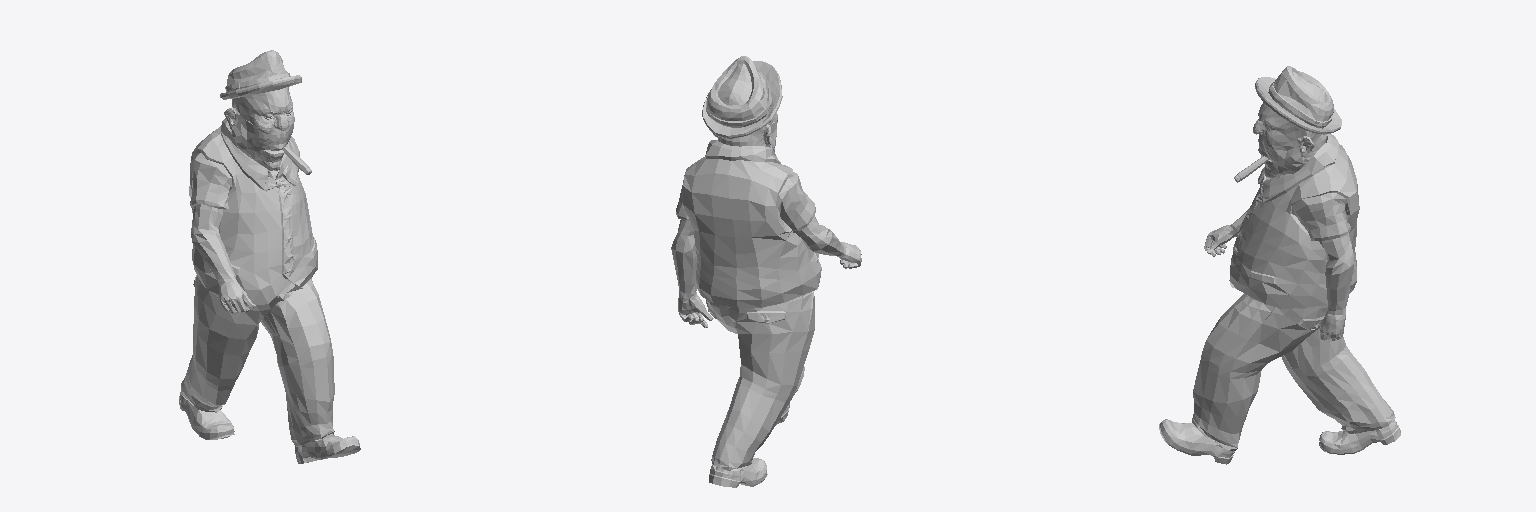
The model's file is walk0007.obj.
3 renders of one model, left to right at view 1: azimuth 30°, elevation 25°; view 2: azimuth 150°, elevation 25°; view 3: azimuth 270°, elevation 25°, orthographic.
Visible parts, largest first — view 1: mixamorig:Jacket_Geo, mixamorig:Pants_Geo, mixamorig:Head_Geo, mixamorig:Arms_Geo, mixamorig:Shoes_Geo, mixamorig:Hat_Geo; view 2: mixamorig:Jacket_Geo, mixamorig:Pants_Geo, mixamorig:Hat_Geo, mixamorig:Arms_Geo, mixamorig:Shoes_Geo, mixamorig:Head_Geo; view 3: mixamorig:Pants_Geo, mixamorig:Jacket_Geo, mixamorig:Hat_Geo, mixamorig:Arms_Geo, mixamorig:Shoes_Geo, mixamorig:Head_Geo.
Boxes of the visible parts, x1=… form: mixamorig:Jacket_Geo: x1=189, y1=118, x2=317, y2=304; mixamorig:Pants_Geo: x1=180, y1=275, x2=334, y2=445; mixamorig:Head_Geo: x1=224, y1=87, x2=294, y2=179; mixamorig:Arms_Geo: x1=191, y1=204, x2=255, y2=313; mixamorig:Shoes_Geo: x1=179, y1=394, x2=360, y2=463; mixamorig:Hat_Geo: x1=220, y1=50, x2=301, y2=99; mixamorig:Jacket_Geo: x1=676, y1=140, x2=821, y2=307; mixamorig:Pants_Geo: x1=706, y1=291, x2=814, y2=470; mixamorig:Hat_Geo: x1=702, y1=56, x2=782, y2=138; mixamorig:Arms_Geo: x1=671, y1=215, x2=861, y2=327; mixamorig:Shoes_Geo: x1=709, y1=367, x2=804, y2=487; mixamorig:Head_Geo: x1=709, y1=113, x2=777, y2=151; mixamorig:Pants_Geo: x1=1192, y1=294, x2=1395, y2=450; mixamorig:Jacket_Geo: x1=1229, y1=134, x2=1359, y2=308; mixamorig:Hat_Geo: x1=1255, y1=66, x2=1341, y2=134; mixamorig:Arms_Geo: x1=1204, y1=209, x2=1354, y2=340; mixamorig:Shoes_Geo: x1=1159, y1=419, x2=1400, y2=464; mixamorig:Head_Geo: x1=1253, y1=102, x2=1326, y2=179.
Size of the model in its own units: 0.6532 by 1.94 by 1.08.